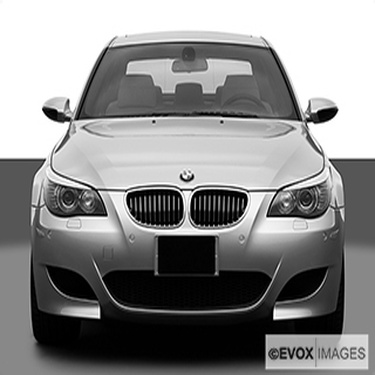car: (20, 19, 363, 358)
